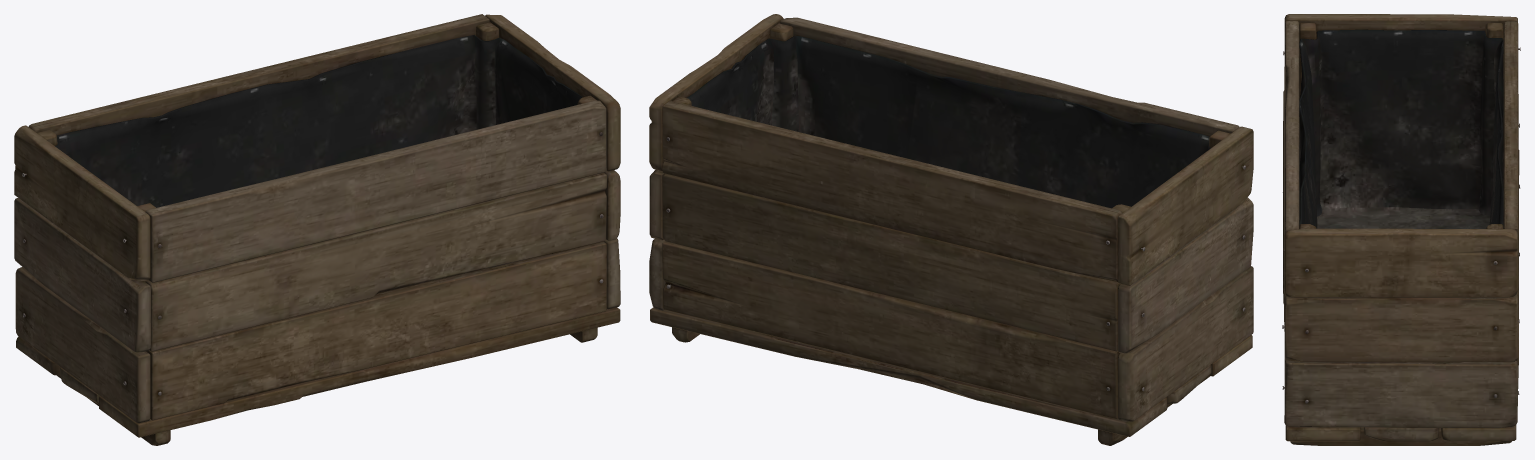
Rendered from planter_box_01.glb.
The picture shows the model from 3 angles, left to right: view 1: azimuth 30°, elevation 25°; view 2: azimuth 150°, elevation 25°; view 3: azimuth 270°, elevation 25°; orthographic projection. The views are drawn at different scales.
Visible parts, largest first — view 1: planter_box_01; view 2: planter_box_01; view 3: planter_box_01.
Part boxes in pixels (<box>): planter_box_01: <box>14,14,620,445</box>; planter_box_01: <box>649,14,1253,445</box>; planter_box_01: <box>1282,14,1520,445</box>.
Bounding box in the file's own units: 0.9126 × 0.4249 × 0.4137.
1 material, 1 textured.
